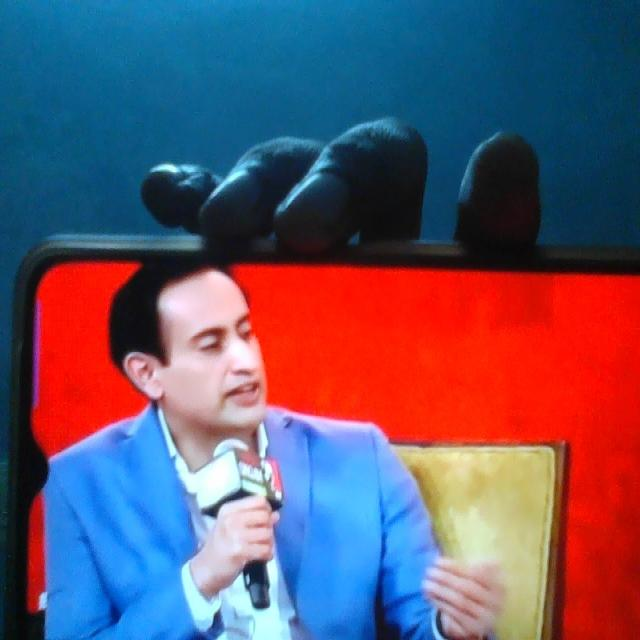fake: (151, 239, 266, 456)
